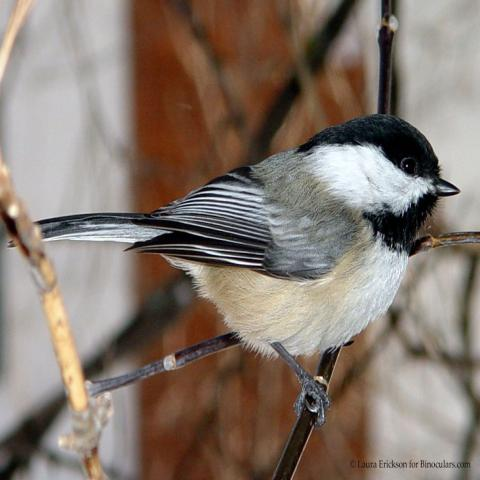bird: (14, 109, 462, 427)
